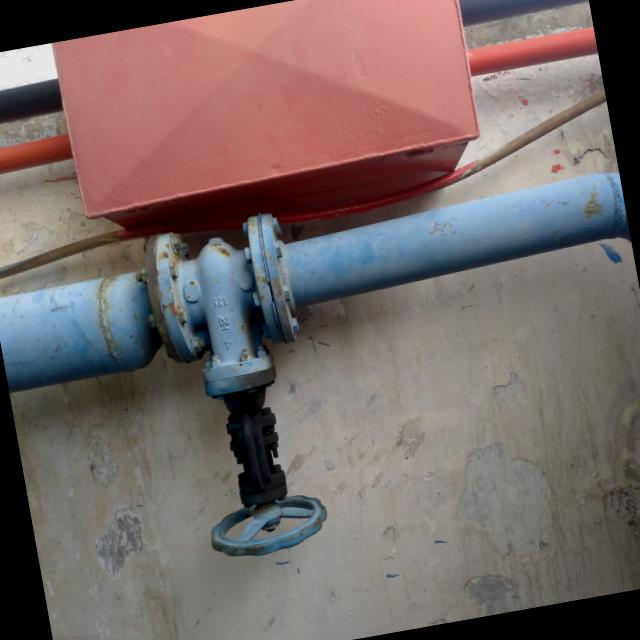gas: (0, 176, 629, 386), (470, 26, 598, 76), (455, 0, 580, 28), (0, 79, 63, 122), (0, 137, 70, 175)
